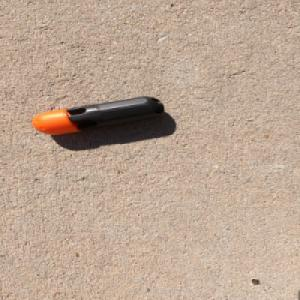PlasticPart: (30, 95, 167, 137)
